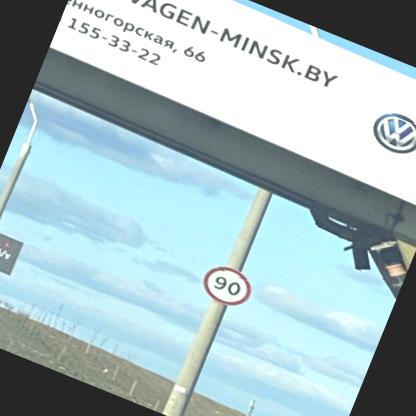speedlimit: (196, 258, 256, 310)
